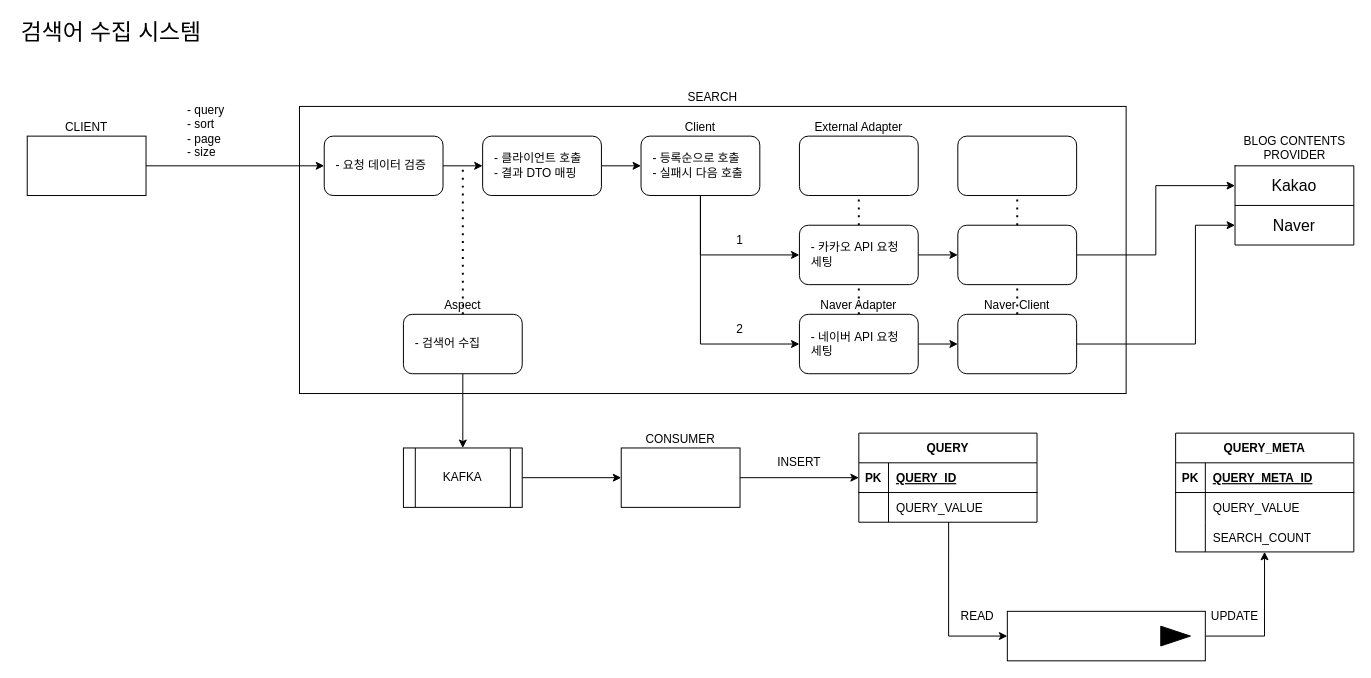
Image size: 1371x678. Some labels were removed from this diagram. The shapes that lost their labels are listed below. From the top down, each one's box as (x1, y1, x2, y2) in pixels, then its label:
(323, 135, 443, 196): Controller
(482, 135, 601, 196): Service
(957, 135, 1077, 196): External Client
(798, 224, 918, 285): Kakao Adapter
(957, 224, 1077, 285): Kakao Client
(1006, 610, 1205, 661): UPDATE BATCH
